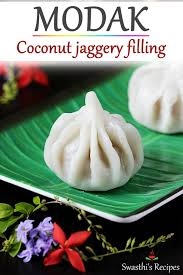modak: (38, 88, 155, 188)
